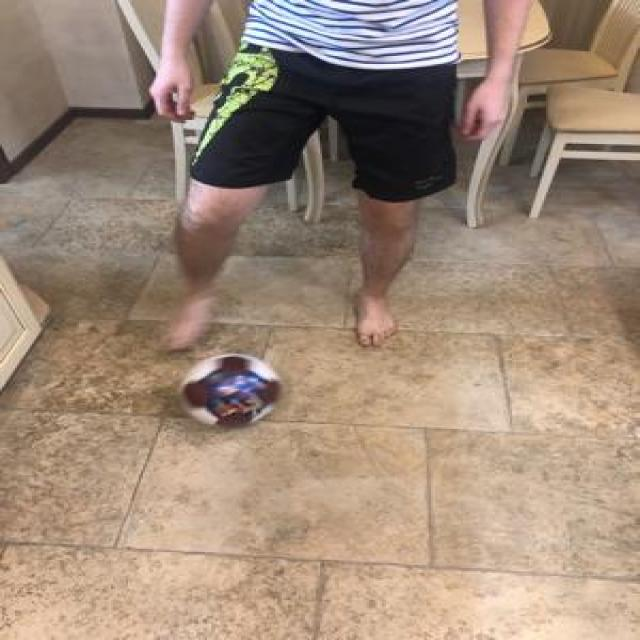Soccer Ball: (170, 350, 284, 428)
